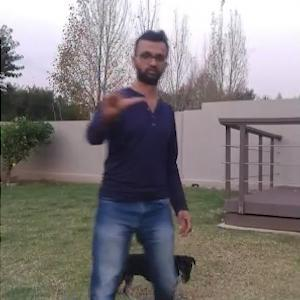land_hand: (89, 55, 145, 121)
